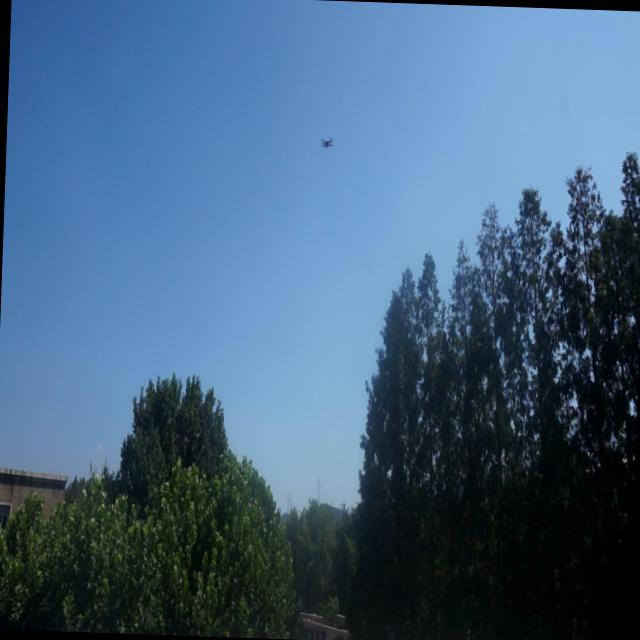drone: (318, 134, 334, 152)
